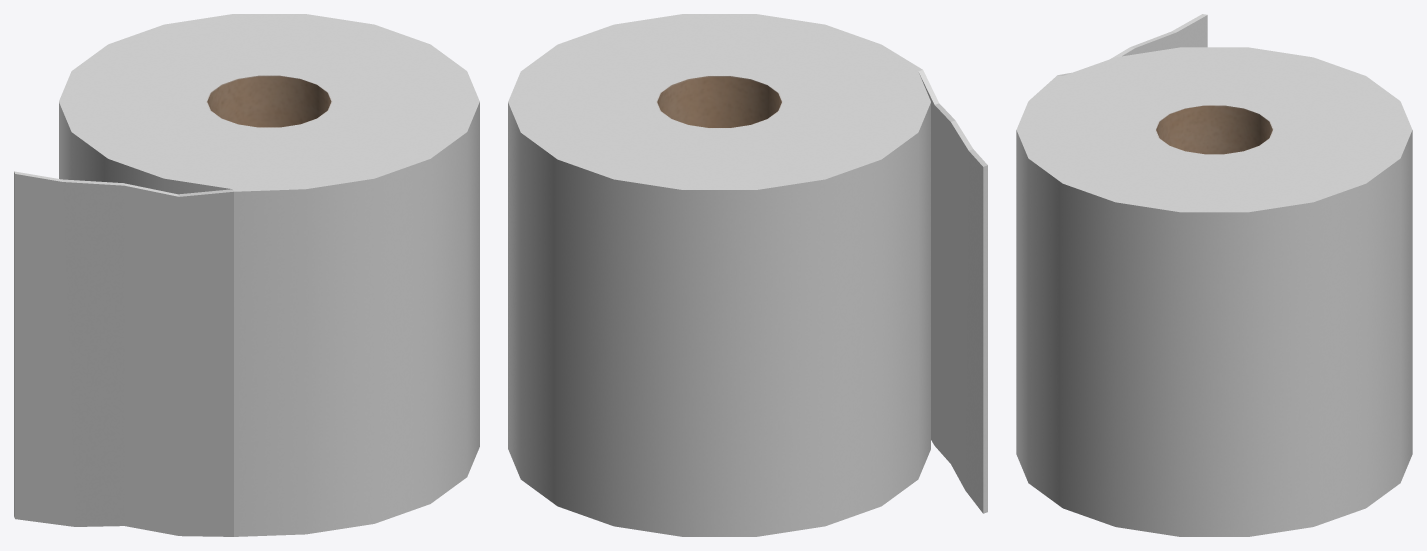
Rendered from PapelHigienico.fbx.
The picture shows the model from 3 angles, left to right: view 1: azimuth 30°, elevation 25°; view 2: azimuth 150°, elevation 25°; view 3: azimuth 270°, elevation 25°; orthographic projection. The views are drawn at different scales.
Visible parts, largest first — view 1: Tube001; view 2: Tube001; view 3: Tube001.
Boxes of the visible parts, left/top/right/bottom form: Tube001: left=14, top=14, right=479, bottom=536; Tube001: left=508, top=14, right=987, bottom=536; Tube001: left=1016, top=14, right=1412, bottom=536.
Bounding box in the file's own units: 50.06 × 38.16 × 41.46.
1 material, 1 textured.
